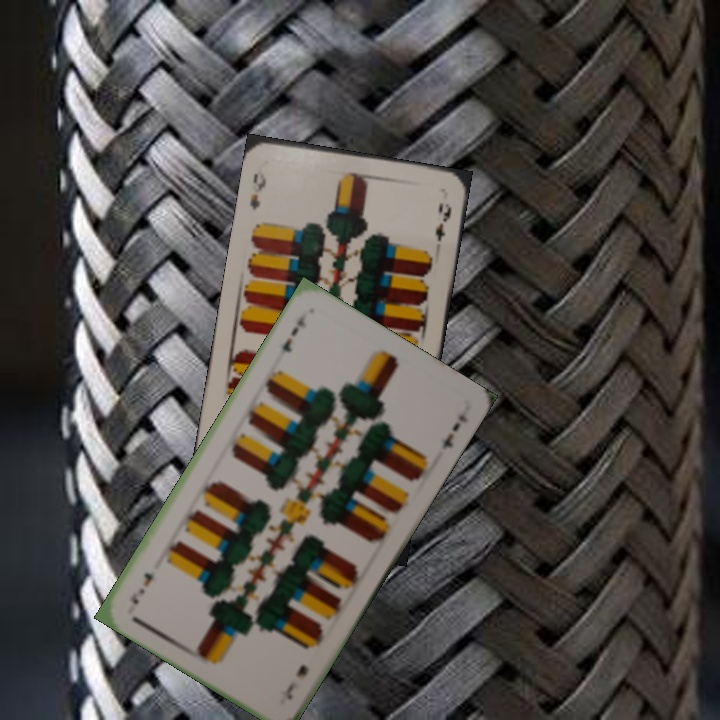E7: (278, 309, 310, 355), (281, 661, 311, 703)
E9: (246, 161, 269, 212)
